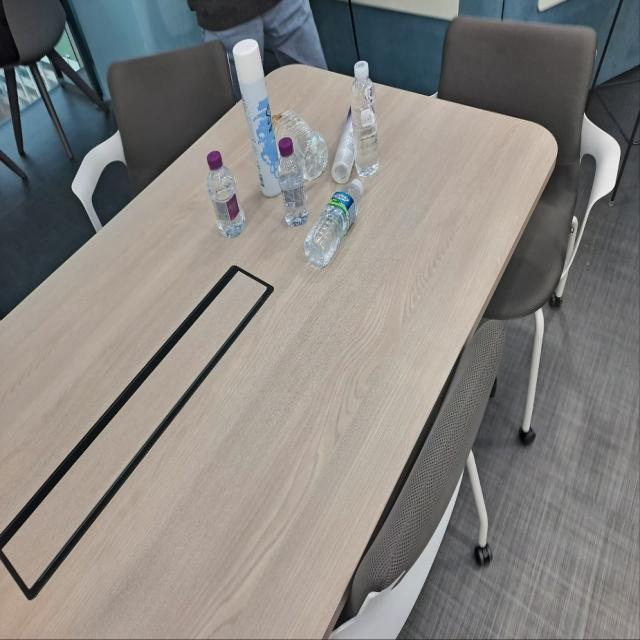spray: (232, 37, 288, 198), (328, 106, 360, 186)
water: (298, 174, 368, 270), (268, 102, 328, 182), (202, 150, 247, 240), (351, 57, 383, 177), (272, 133, 310, 225)
